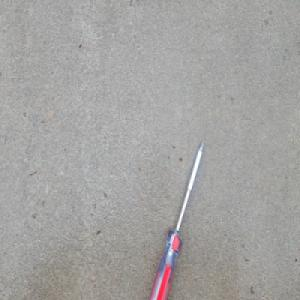Screwdriver: (144, 136, 206, 300)
